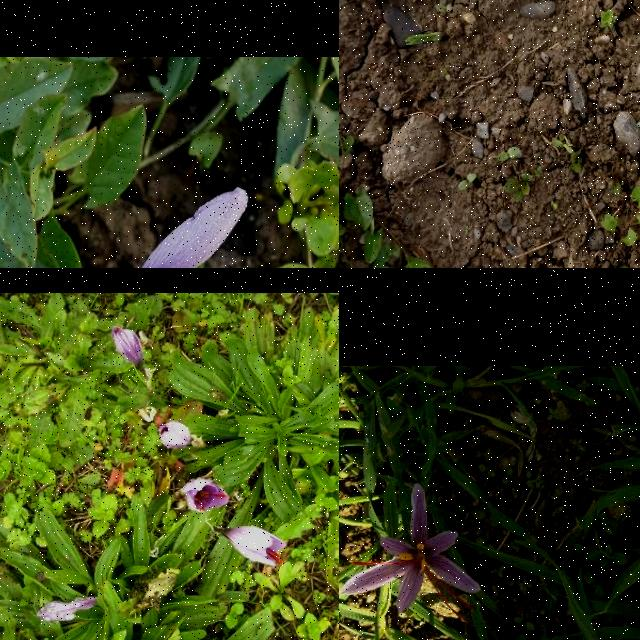flower: (340, 485, 482, 625), (128, 188, 249, 268), (222, 526, 286, 568), (183, 476, 231, 514), (111, 326, 145, 372), (158, 419, 192, 448)
